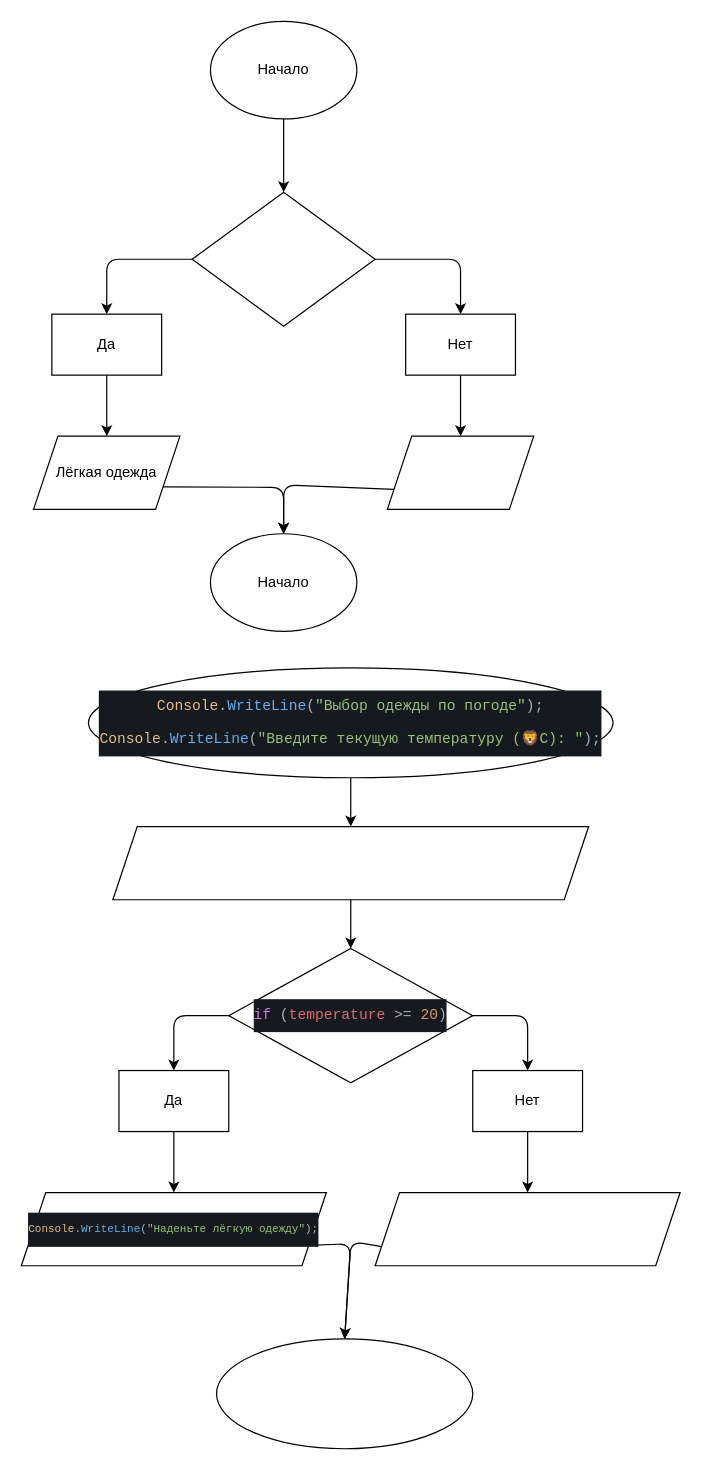
Image size: 702x1470. Some labels were removed from this diagram. Each missing label, with the box of its shape:
Console . WriteLine ( "Наденьте тёплую одежду" );: (374, 1191, 680, 1266)
Console . WriteLine ( "Хорошего дня!" );: (215, 1338, 473, 1449)
int temperature = Convert . ToInt32 ( Console . ReadLine ());: (112, 825, 589, 900)
Температура ≥ 20°C: (191, 191, 375, 326)
Тёплая одежда: (386, 435, 534, 509)
